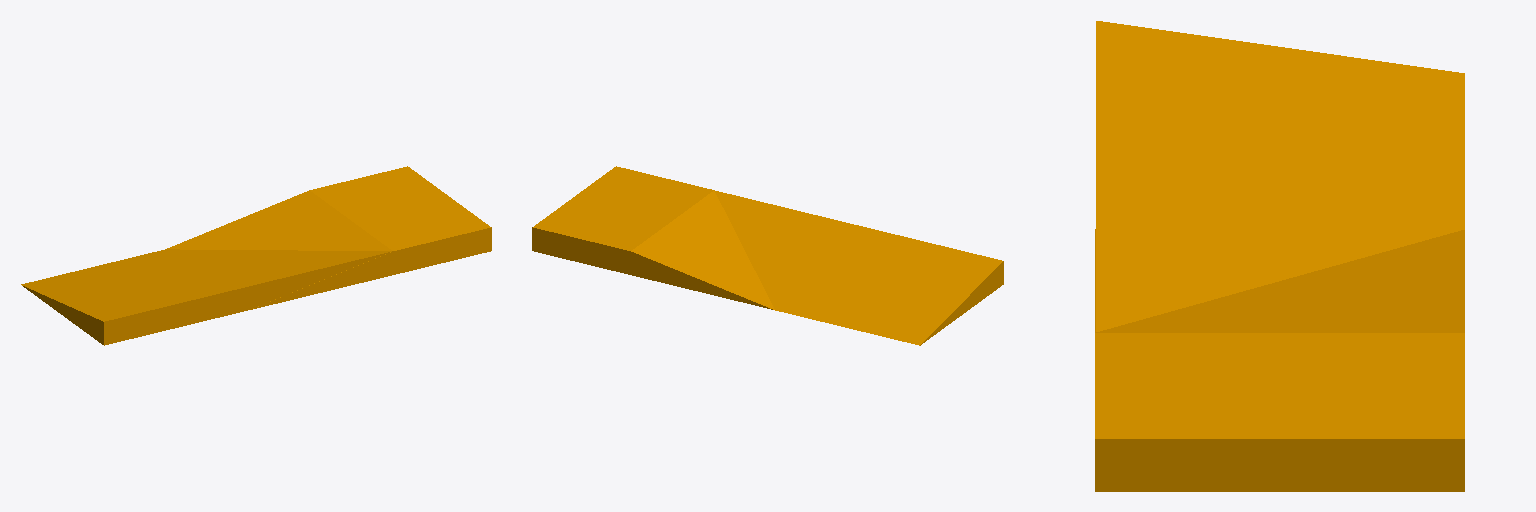
robot.urdf — up_sidehill:
<?xml version="1.0" ?>
<robot name="up_sidehill">
  <link name="up_sidehill__link_0">
    <inertial>
      <mass value="1"/>
      <origin rpy="0     0     1.5708" xyz="0.5 0.5 0"/>
      <inertia ixx="0.166667" ixy="0" ixz="0" iyy="0.166667" iyz="0" izz="0.166667"/>
    </inertial>
    <collision name="up_sidehill__collision">
      <origin rpy="0     0     1.5708" xyz="0 0 0"/>
      <geometry>
        <mesh filename="package://up_sidehill/up_sidehill.stl" scale="1 1 1"/>
      </geometry>
    </collision>
    <visual name="up_sidehill__visual">
      <origin rpy="0     0     1.5708" xyz="0 0 0"/>
      <geometry>
        <mesh filename="package://up_sidehill/up_sidehill.stl" scale="1 1 1"/>
      </geometry>
    </visual>
  </link>
</robot>

--- Facts derived from the render (not from the file) ---
3 views of the same robot in one strip: view 1: azimuth 30°, elevation 25°; view 2: azimuth 150°, elevation 25°; view 3: azimuth 270°, elevation 25° (orthographic).
Robot: up_sidehill — 1 links, 0 joints (none); root link up_sidehill__link_0; default pose: every joint at zero.
Visible links, largest first — view 1: up_sidehill__link_0; view 2: up_sidehill__link_0; view 3: up_sidehill__link_0.
Boxes of the visible links, x1,y1,x2,y2 form: up_sidehill__link_0: [21, 166, 491, 345]; up_sidehill__link_0: [532, 166, 1003, 345]; up_sidehill__link_0: [1095, 21, 1464, 491].
Bounding box of the posed robot: 4.02 × 1.5 × 0.2369 m (x, y, z).
1 mesh visuals loaded from 1 distinct referenced files (1 binary STL).